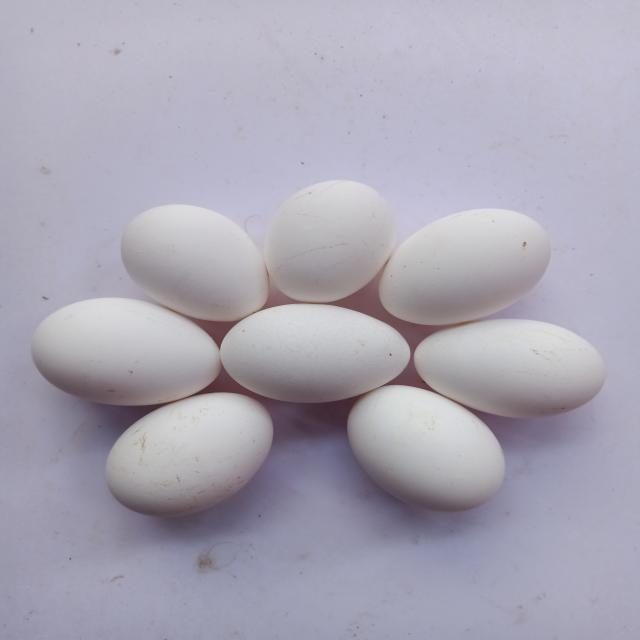Egg: (104, 393, 272, 517), (30, 298, 221, 406), (379, 208, 551, 325), (347, 385, 505, 512), (414, 319, 606, 418), (220, 304, 410, 403), (120, 204, 268, 322), (264, 180, 396, 302), (101, 341, 101, 343)
